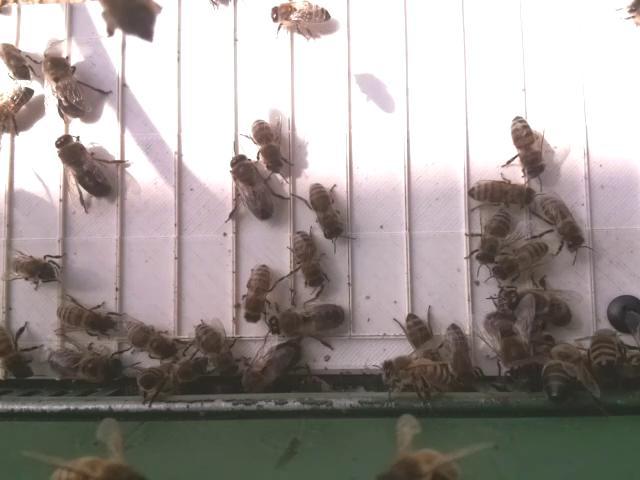Drone: (38, 41, 89, 122), (54, 131, 112, 202), (228, 151, 277, 222), (266, 300, 348, 341), (502, 285, 575, 330), (46, 343, 125, 382)
Worker: (539, 193, 588, 255), (492, 236, 550, 285), (509, 111, 547, 179), (191, 317, 237, 373), (466, 174, 537, 210), (290, 227, 328, 294), (306, 179, 345, 244), (51, 300, 115, 338), (119, 319, 177, 360), (474, 206, 512, 268), (250, 115, 287, 174), (241, 259, 274, 324), (266, 1, 334, 27), (6, 254, 62, 284)
